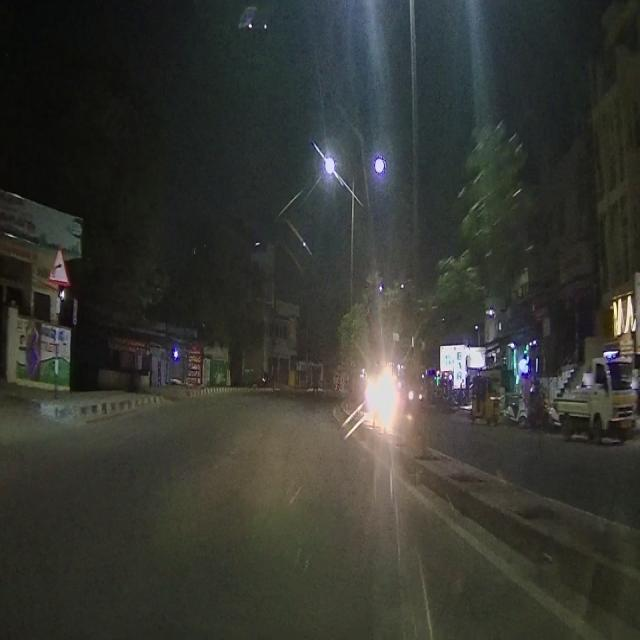right-hand-curve: (50, 246, 68, 281)
